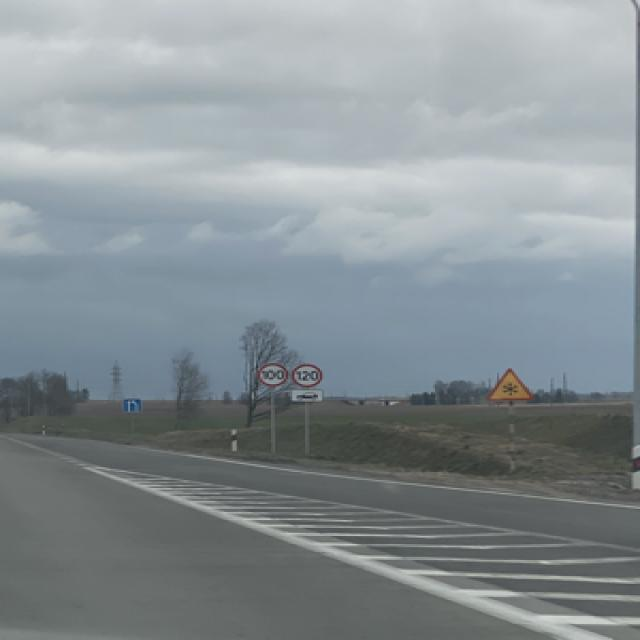speedlimit: (254, 362, 284, 386), (288, 362, 320, 384)
